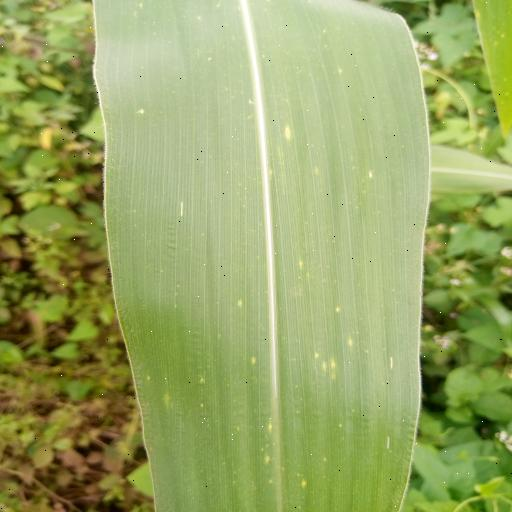Corn_Chlorotic_Leaf_Spot: (89, 0, 441, 512)
